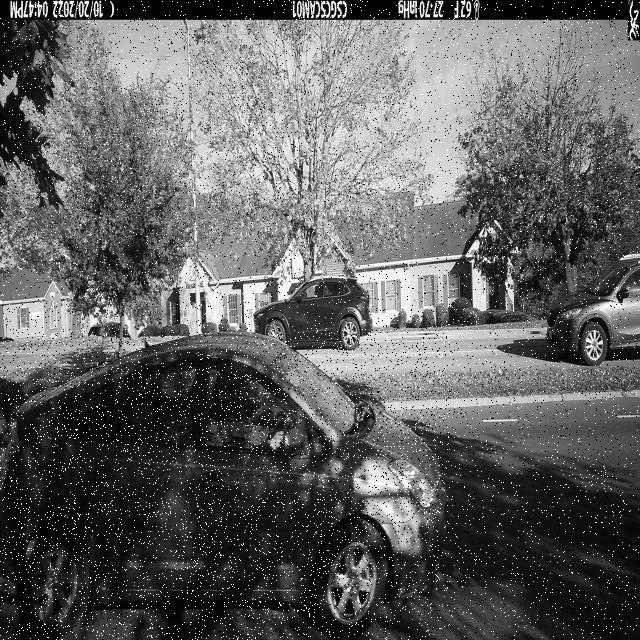Hatchback: (0, 332, 449, 640)
